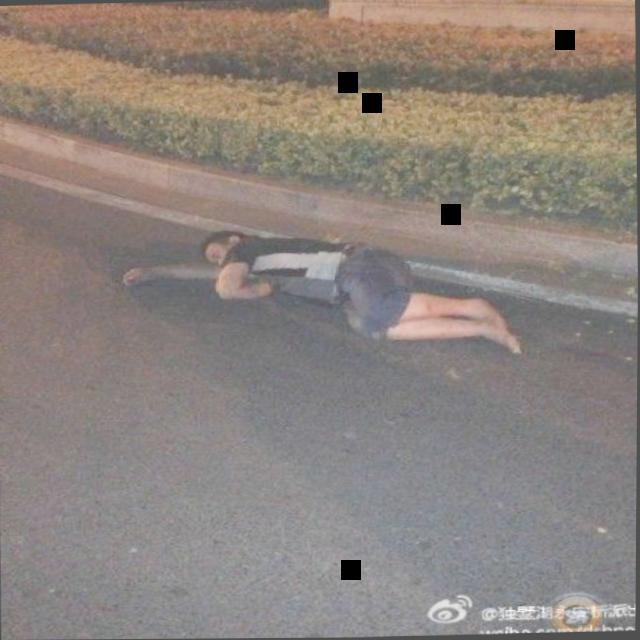Fall-Detected: (97, 207, 513, 357)
